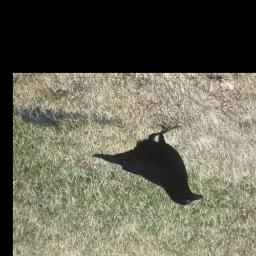Crow: (95, 126, 207, 208)
